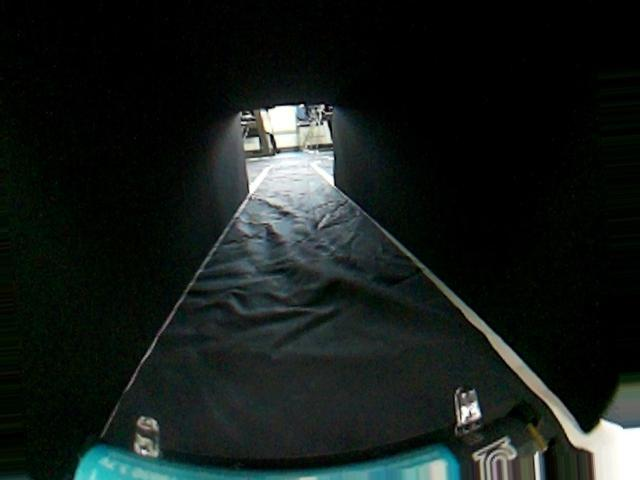straight: (8, 183, 630, 479)
